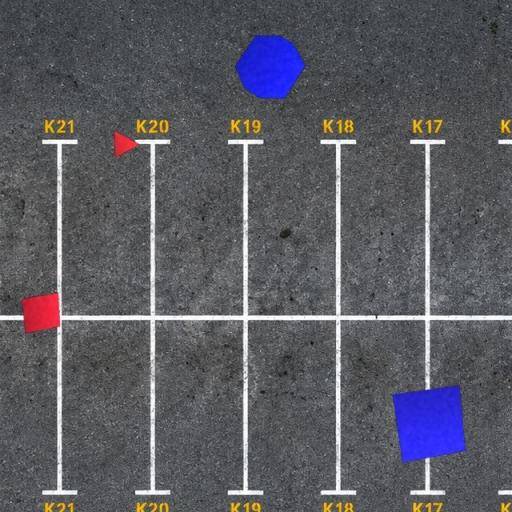BLUE_SQUARE: (392, 385, 466, 463)
RED_SQUARE: (22, 292, 60, 334)
